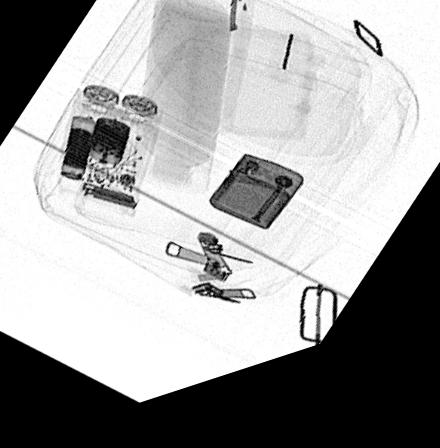Lighter: (207, 167, 304, 246)
